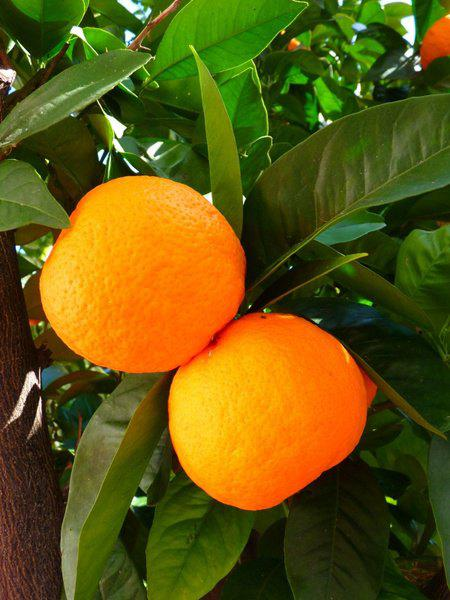orange: (40, 176, 247, 375), (169, 311, 369, 508)
